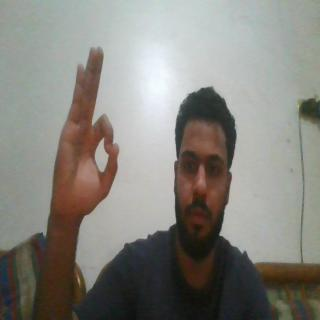Space: (36, 40, 126, 237)
